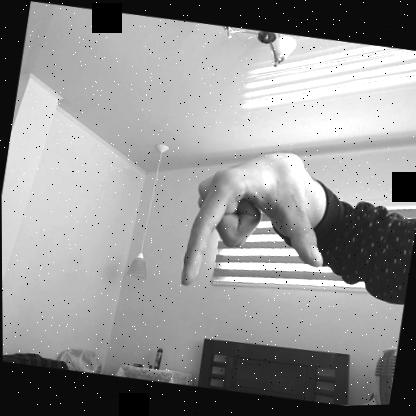Q: (176, 149, 336, 309)
